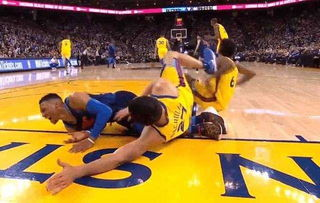fall: (49, 76, 211, 168)
